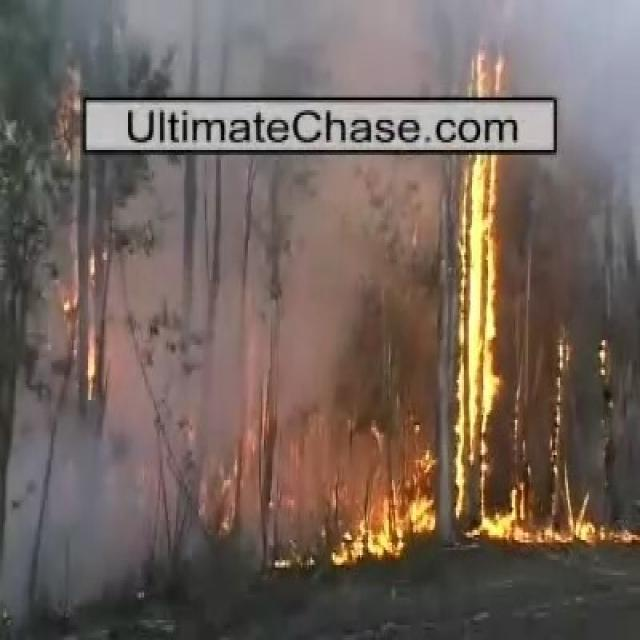fire: (455, 156, 500, 520), (332, 494, 436, 562)
smoke: (12, 417, 90, 612), (507, 7, 637, 96)
